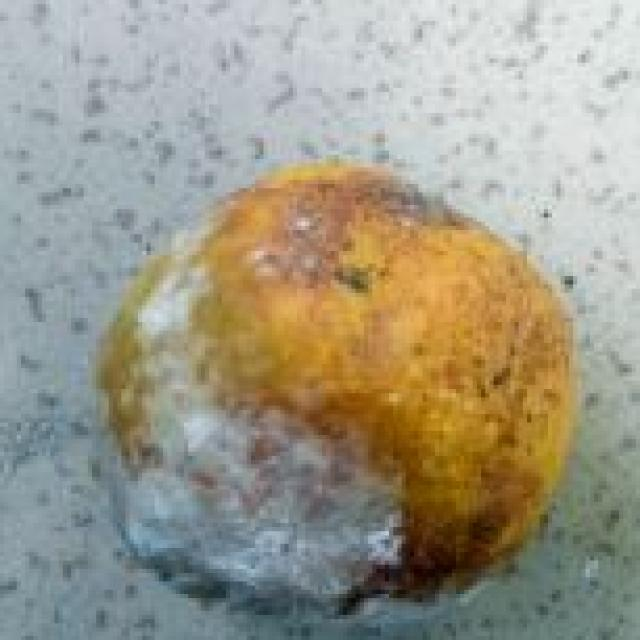Bad_Lime-0-1-day: (88, 159, 581, 627)
